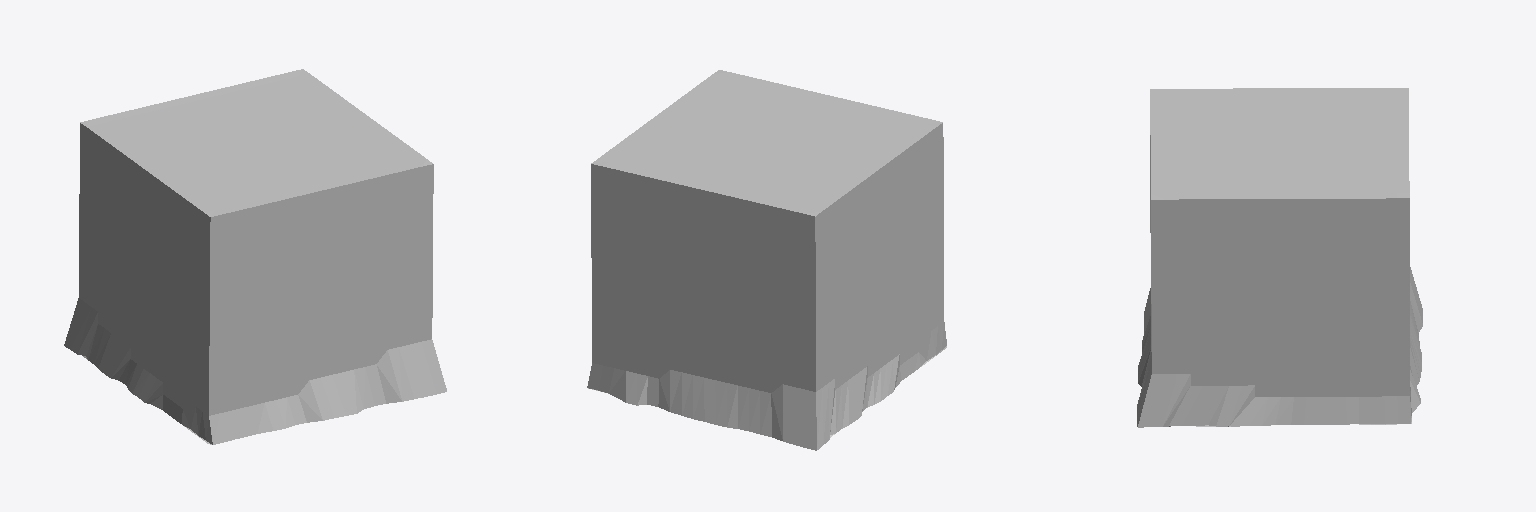
Rendered from mod0154.obj.
The picture shows the model from 3 angles: view 1: azimuth 30°, elevation 25°; view 2: azimuth 150°, elevation 25°; view 3: azimuth 270°, elevation 25°; orthographic projection.
Parts seen in each view (by area): view 1: Box001; view 2: Box001; view 3: Box001.
Boxes of the visible parts, x1=… form: Box001: x1=64, y1=69, x2=446, y2=444; Box001: x1=587, y1=70, x2=946, y2=450; Box001: x1=1137, y1=88, x2=1422, y2=427.
Size of the model in its own units: 0.5799 by 0.5235 by 0.5979.